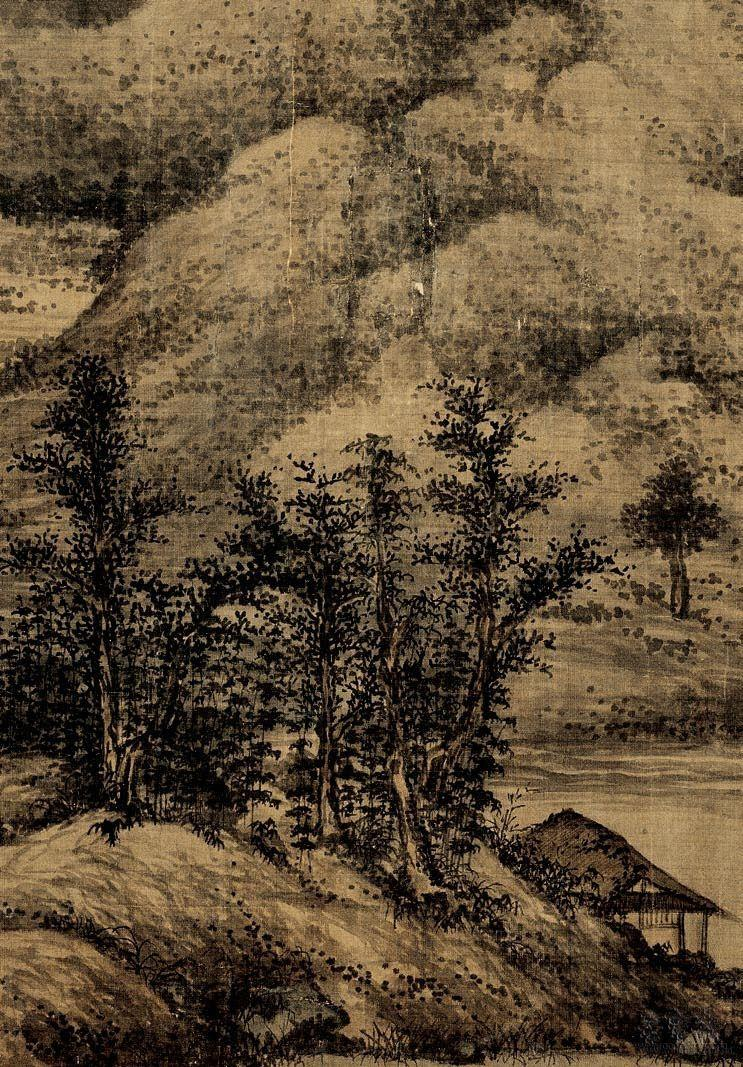house: (511, 810, 724, 955)
tree: (248, 474, 453, 895), (37, 365, 225, 818), (440, 384, 516, 878), (642, 478, 716, 616)
